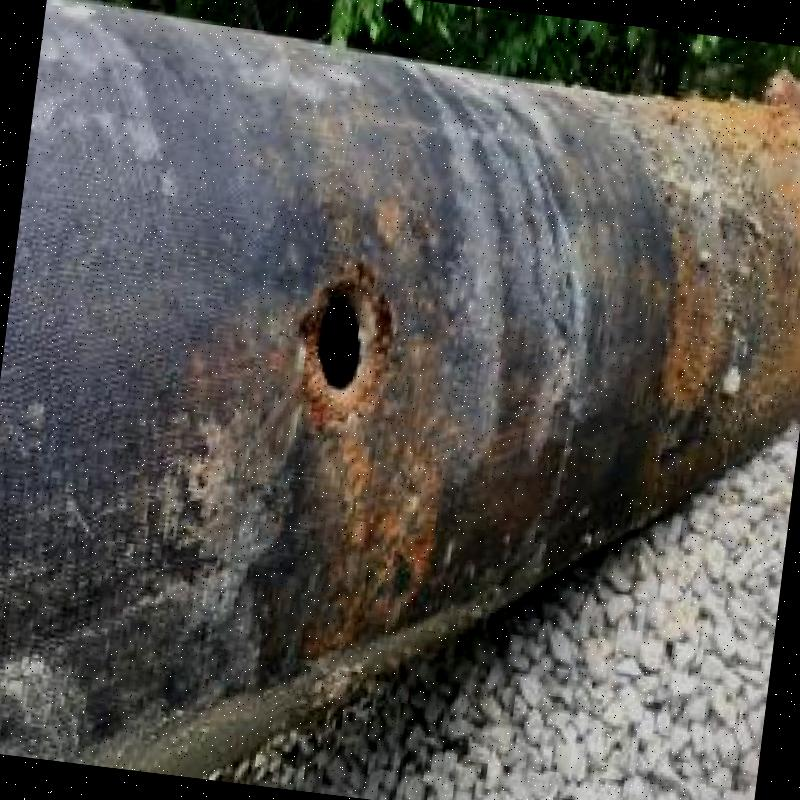Fracture: (282, 266, 416, 428)
corrosion: (535, 81, 772, 483)
